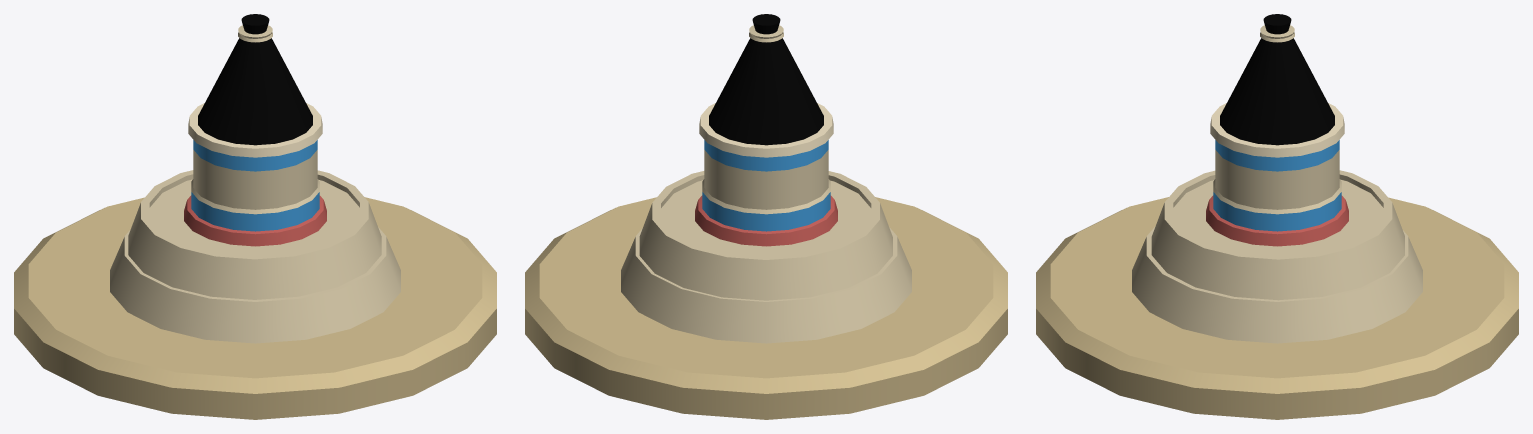
Rendered from Altar_Quetzalqoatl.fbx.
The picture shows the model from 3 angles, left to right: view 1: azimuth 30°, elevation 25°; view 2: azimuth 150°, elevation 25°; view 3: azimuth 270°, elevation 25°; orthographic projection.
Parts seen in each view (by area): view 1: Altar_Quetzalqoatl; view 2: Altar_Quetzalqoatl; view 3: Altar_Quetzalqoatl.
Boxes of the visible parts, left/top/right/bottom form: Altar_Quetzalqoatl: left=14, top=14, right=496, bottom=419; Altar_Quetzalqoatl: left=525, top=14, right=1007, bottom=419; Altar_Quetzalqoatl: left=1036, top=14, right=1518, bottom=419.
Bounding box in the file's own units: 334 × 223 × 328.
